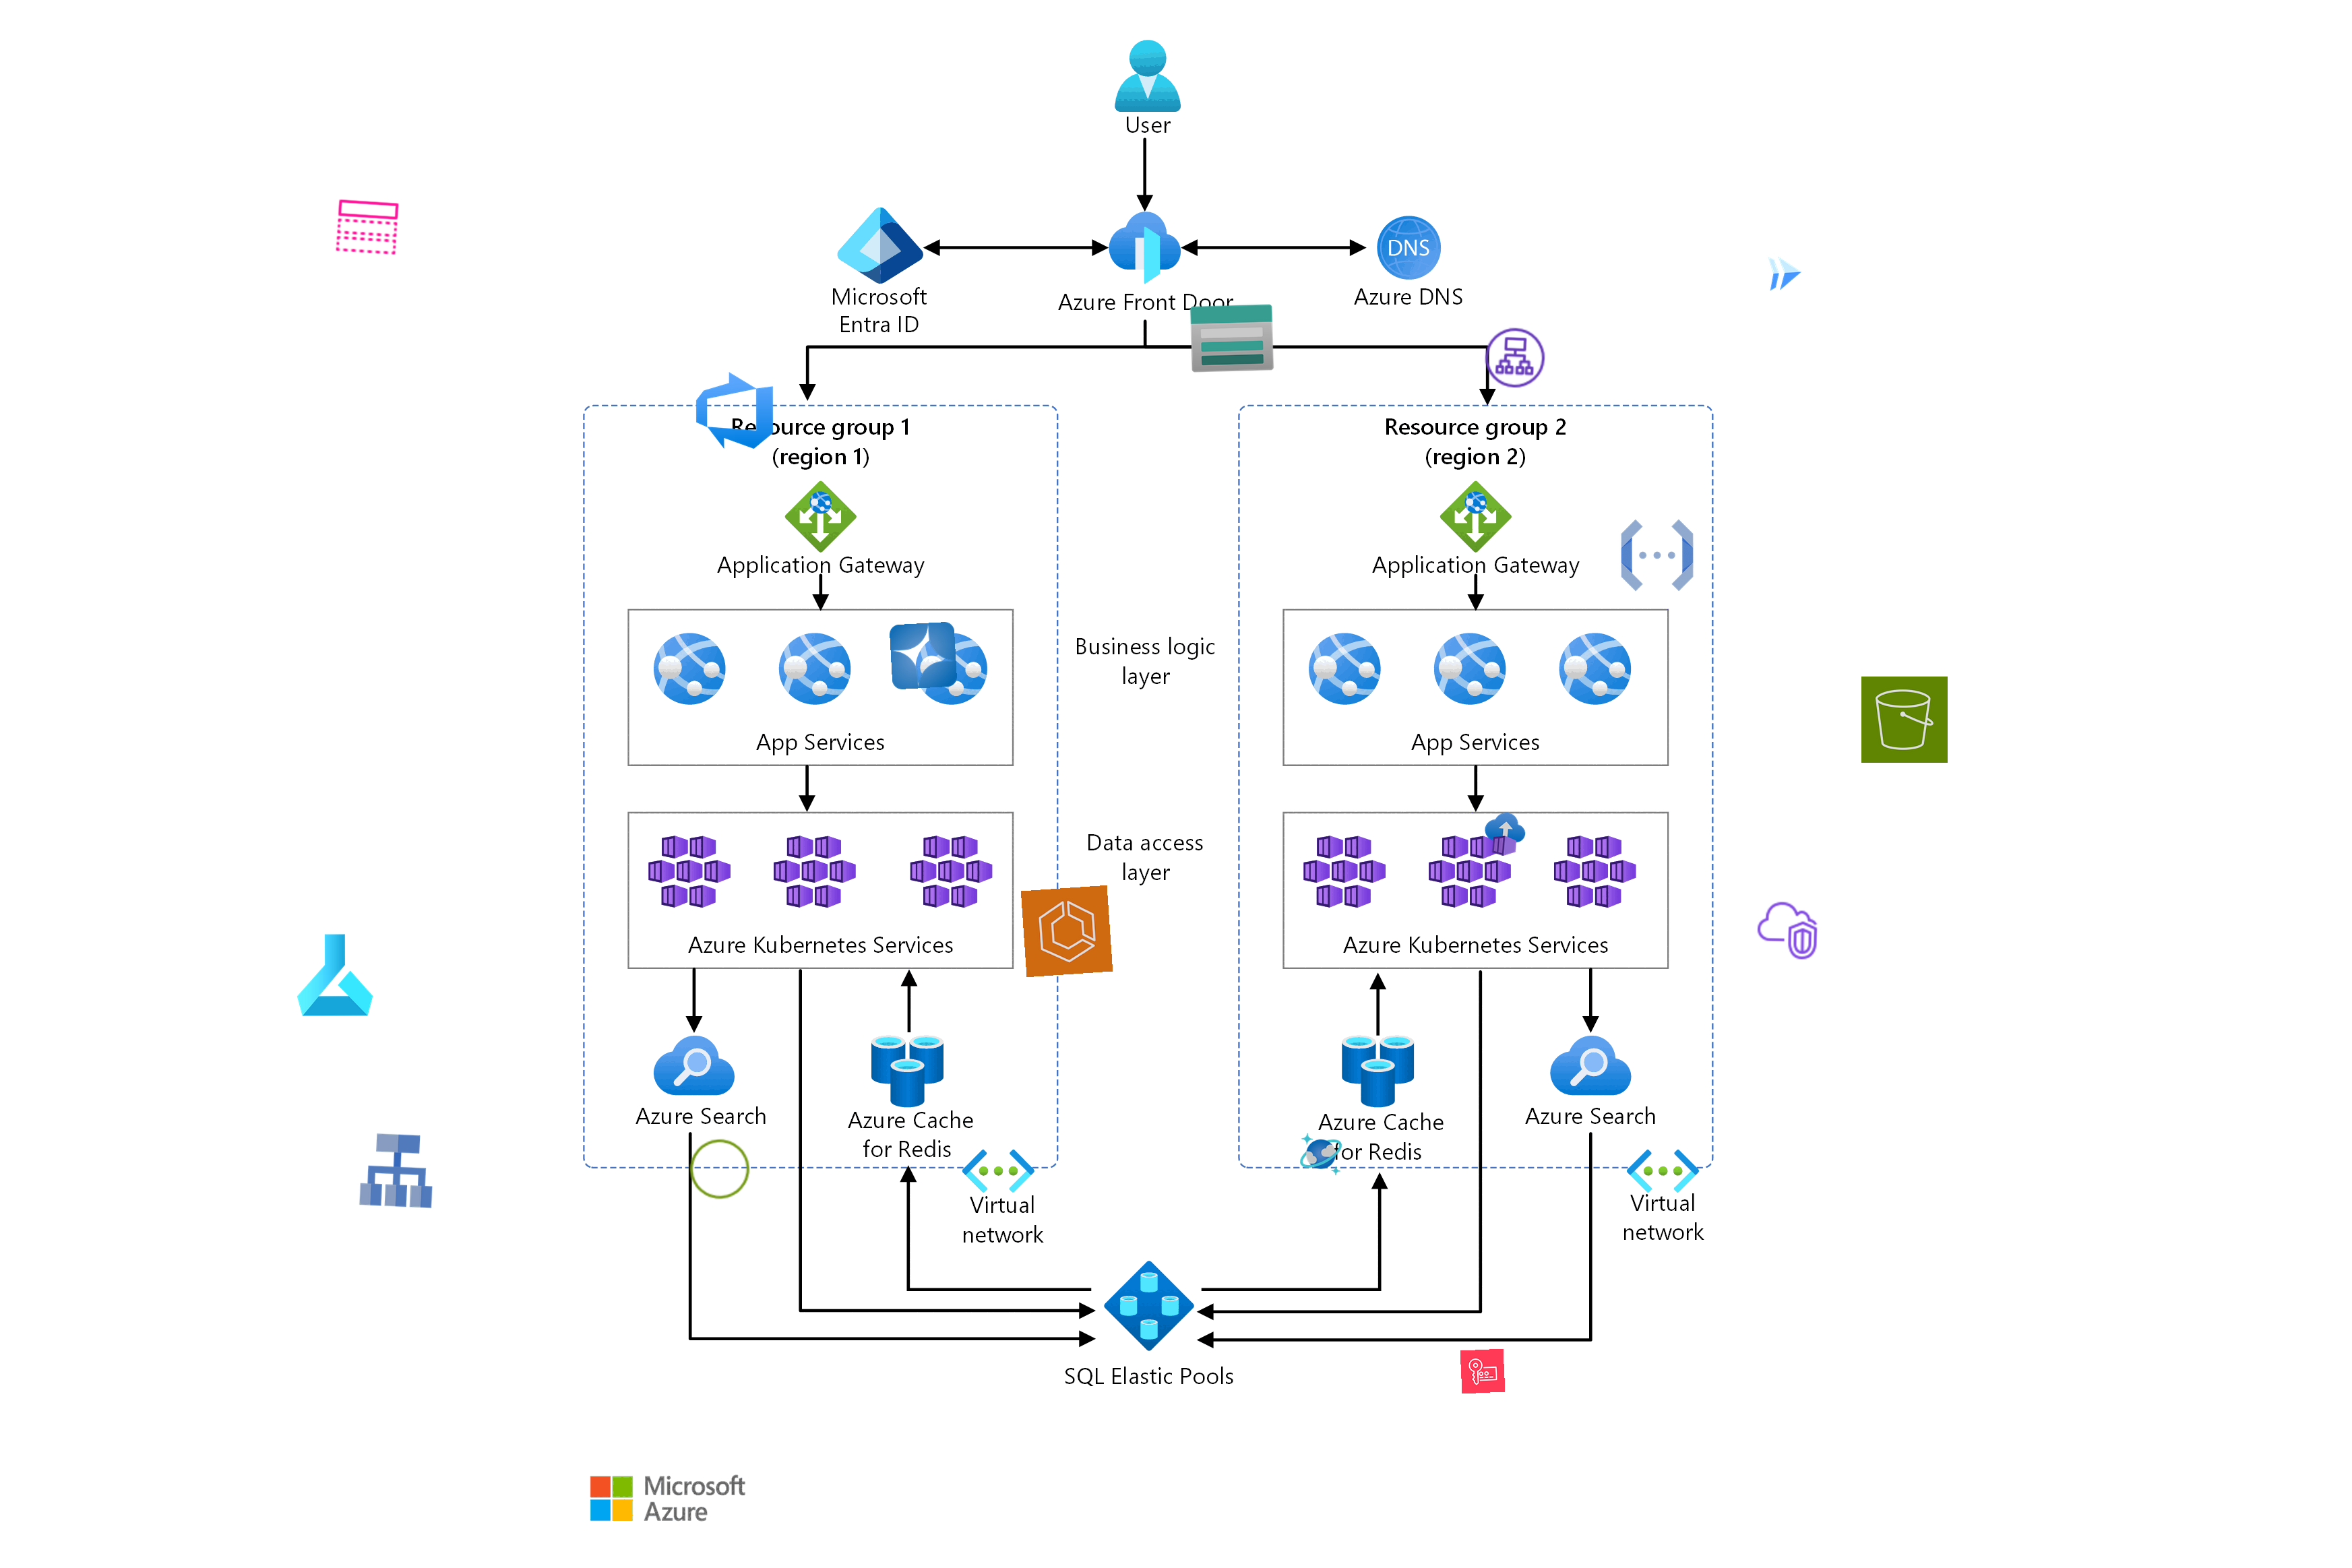aws_amazon_elastic_container_service: (1020, 886, 1113, 978)
aws_amazon_simple_storage_service: (1860, 676, 1948, 763)
aws_elastic_load_balancing_application_load_balancer: (1480, 324, 1549, 392)
aws_key_management_service: (1459, 1347, 1505, 1395)
aws_simple_notification_service_topic: (332, 193, 402, 262)
aws_simple_storage_service_object: (684, 1134, 754, 1204)
aws_vpc_virtual_private_cloud_vpc: (1753, 896, 1822, 964)
azure_container_instances: (1480, 810, 1528, 857)
azure_cosmos_db: (1298, 1131, 1344, 1178)
azure_devops: (691, 366, 779, 455)
azure_machine_learning: (290, 931, 378, 1019)
azure_openai: (889, 621, 957, 689)
azure_storage_accounts: (1188, 294, 1276, 383)
gcp_cloud_functions: (1613, 511, 1701, 598)
gcp_cloud_load_balancing: (352, 1125, 443, 1216)
gcp_cloud_run: (1762, 250, 1808, 296)
